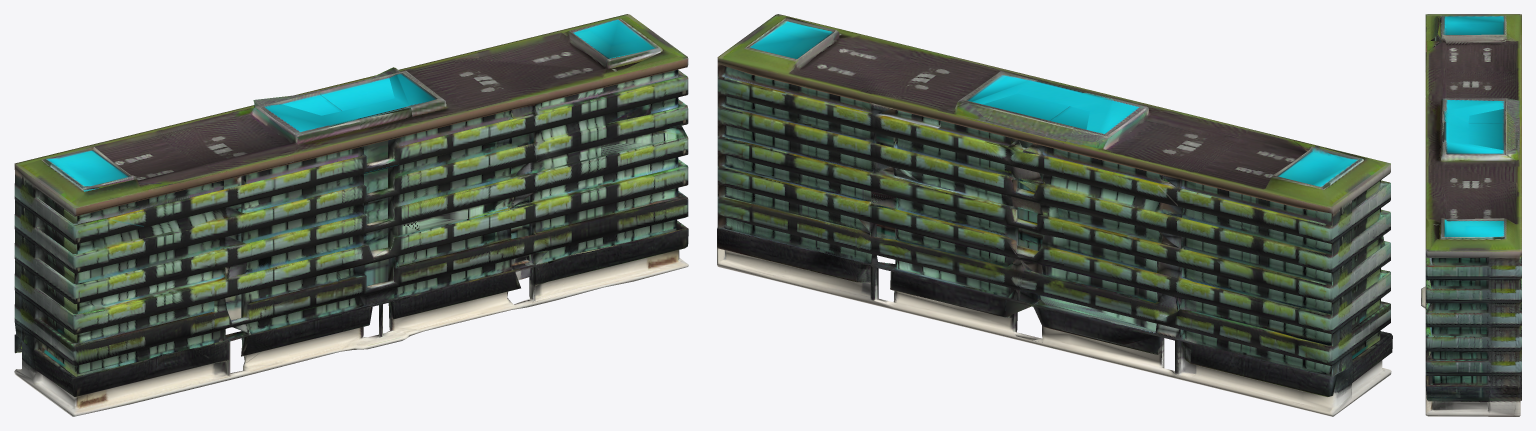
The model's file is condo_1.glb.
3 views of the same model, side by side, from view 1: azimuth 30°, elevation 25°; view 2: azimuth 150°, elevation 25°; view 3: azimuth 270°, elevation 25° (orthographic). The views are drawn at different scales.
Bounding box in the file's own units: 1.91 × 0.6419 × 0.3405.
1 material, 1 textured.
